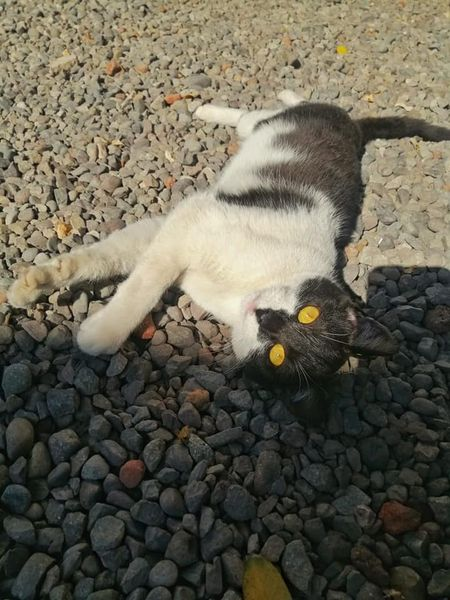cat: (5, 80, 442, 440)
